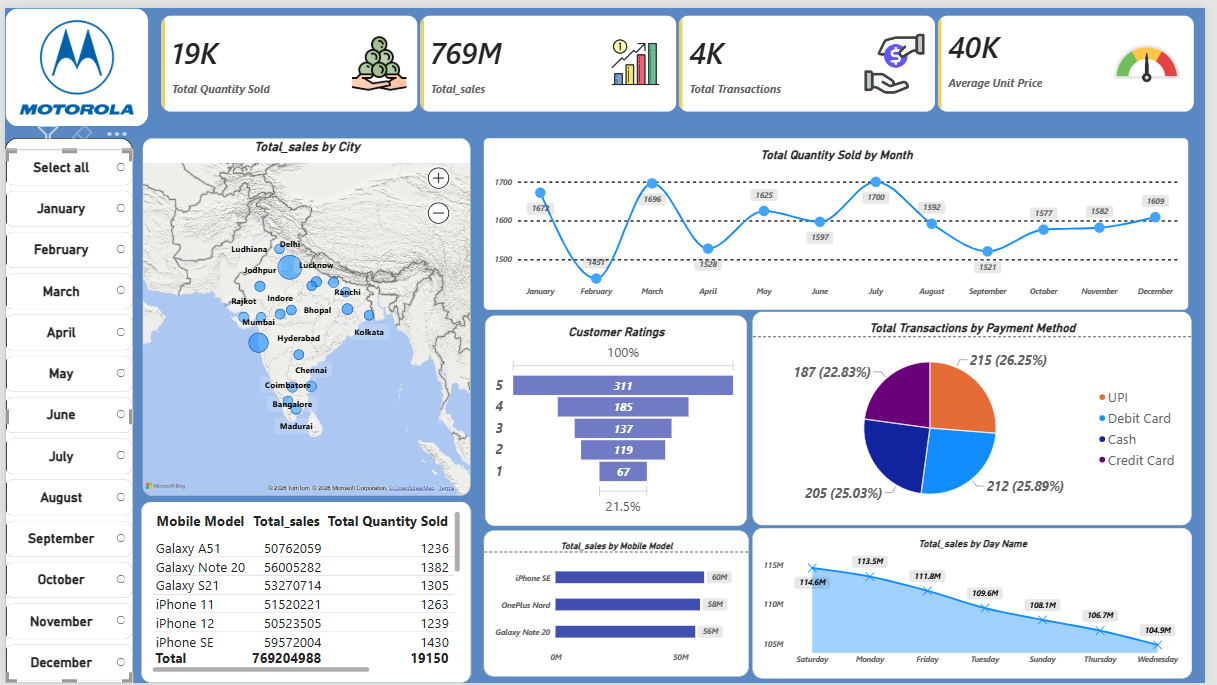

The page's visual inventory and layout, read from the dashboard file:
{"tool":"powerbi","page":{"name":"Mobile sales Dashboard","canvas":[1920,1080],"ordinal":0},"visuals":[{"type":"shape","box":[0,0,229.8,190],"z":0},{"type":"image","box":[0,0,229.8,190],"z":1000},{"type":"shape","box":[0,208.1,204.5,872.3],"z":2000},{"type":"advancedSlicerVisual","fields":{"Values":["Moblie Sales Data.Sales Date.Variation.Date Hierarchy.Month"]},"box":[0,226.2,204.5,854.2],"z":3000},{"type":"cardVisual","fields":{"Data":["Moblie Sales Data.Total Quantity","Moblie Sales Data.Total_sales","Moblie Sales Data.Total Transactions","Moblie Sales Data.Average Unit Price"]},"box":[249.1,12.3,1654.9,154.4],"z":4000},{"type":"map","fields":{"Category":["Moblie Sales Data.City"],"Size":["Moblie Sales Data.Total_sales"]},"box":[220,207.5,525,572.5],"z":5000},{"type":"lineChart","fields":{"Category":["Moblie Sales Data.Sales Date.Variation.Date Hierarchy.Month","Moblie Sales Data.Sales Date.Variation.Date Hierarchy.Day"],"Y":["Moblie Sales Data.Total Quantity Sold"]},"box":[765,207.5,1127.5,275],"z":5001},{"type":"clusteredBarChart","fields":{"Category":["Moblie Sales Data.Mobile Model"],"Y":["Moblie Sales Data.Total_sales"]},"box":[766.9,836.1,423.8,233.4],"z":5002},{"type":"pieChart","fields":{"Category":["Moblie Sales Data.Payment Method"],"Y":["Moblie Sales Data.Total Transactions"]},"box":[1196.2,486.8,702.1,341.7],"z":5003},{"type":"funnel","title":"Customer Ratings","fields":{"Category":["Moblie Sales Data.Customer Ratings"],"Y":["CountNonNull(Moblie Sales Data.Customer Ratings)"]},"box":[767.3,492.2,419.1,336.6],"z":5004},{"type":"areaChart","fields":{"Category":["Moblie Sales Data.Day Name"],"Y":["Moblie Sales Data.Total_sales"]},"box":[1196.9,832.4,703.2,240.7],"z":5005},{"type":"tableEx","fields":{"Values":["Moblie Sales Data.Mobile Model","Moblie Sales Data.Total_sales","Moblie Sales Data.Total Quantity Sold","Moblie Sales Data.Total Transactions"]},"box":[218.2,790.5,527.3,289.9],"z":5006}]}

Visuals, with their boxes in screenshot pixels (x1, y1, x2, y2), scaled from the page's 1920x1080 canvas onto the 1217x685 screenshot:
shape: bbox=(0, 0, 146, 121)
image: bbox=(0, 0, 146, 121)
shape: bbox=(0, 132, 130, 684)
advancedSlicerVisual - Moblie Sales Data.Sales Date.Variation.Date Hierarchy.Month: bbox=(0, 143, 130, 684)
cardVisual - Moblie Sales Data.Total Quantity x Moblie Sales Data.Total_sales: bbox=(158, 8, 1207, 106)
map - Moblie Sales Data.City x Moblie Sales Data.Total_sales: bbox=(139, 132, 472, 495)
lineChart - Moblie Sales Data.Sales Date.Variation.Date Hierarchy.Month x Moblie Sales Data.Sales Date.Variation.Date Hierarchy.Day: bbox=(485, 132, 1200, 306)
clusteredBarChart - Moblie Sales Data.Mobile Model x Moblie Sales Data.Total_sales: bbox=(486, 530, 755, 678)
pieChart - Moblie Sales Data.Payment Method x Moblie Sales Data.Total Transactions: bbox=(758, 309, 1203, 525)
"Customer Ratings" funnel: bbox=(486, 312, 752, 526)
areaChart - Moblie Sales Data.Day Name x Moblie Sales Data.Total_sales: bbox=(759, 528, 1204, 681)
tableEx - Moblie Sales Data.Mobile Model x Moblie Sales Data.Total_sales: bbox=(138, 501, 473, 684)
